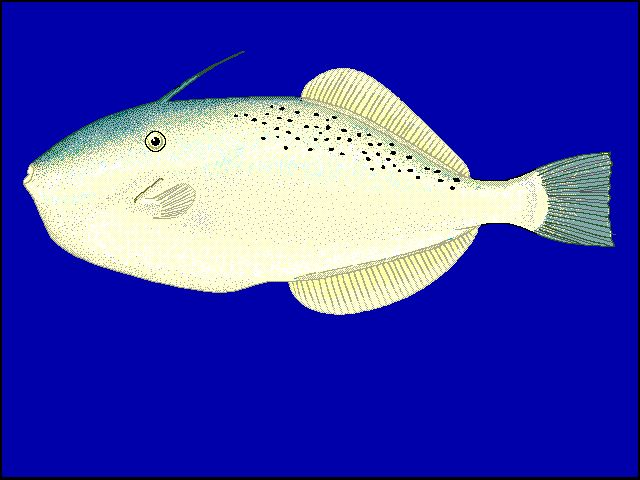fish: (24, 51, 614, 318)
